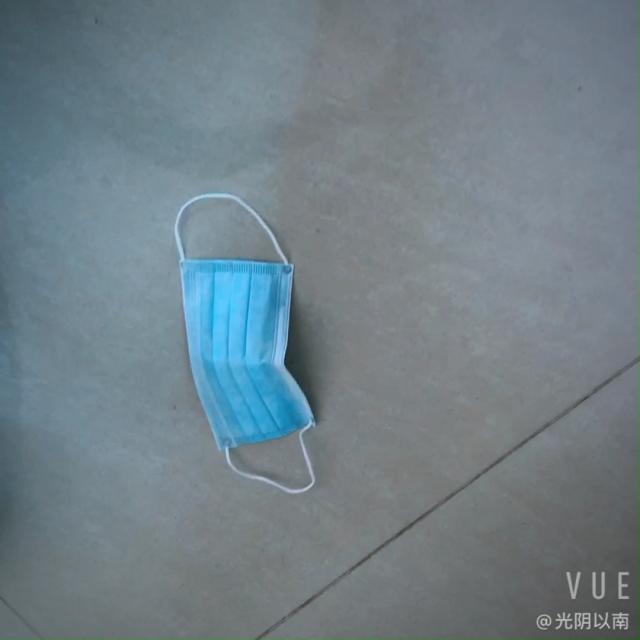face mask: (151, 190, 328, 497)
